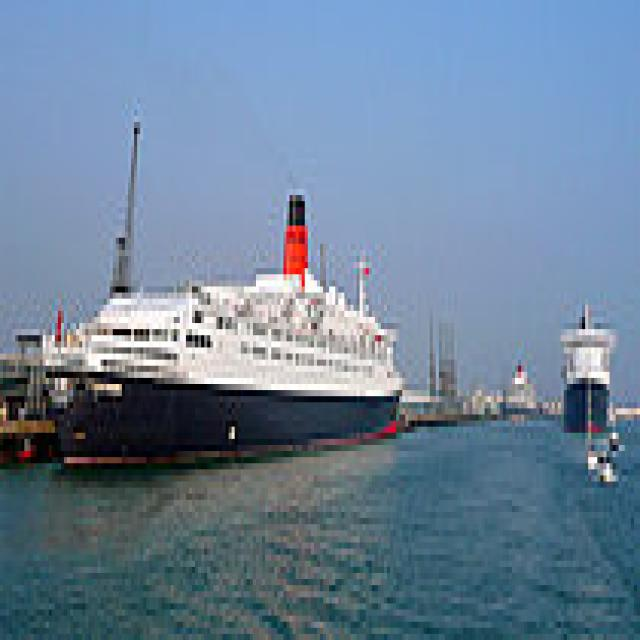Cruise: (34, 183, 402, 463), (552, 286, 616, 433), (500, 341, 536, 427)
